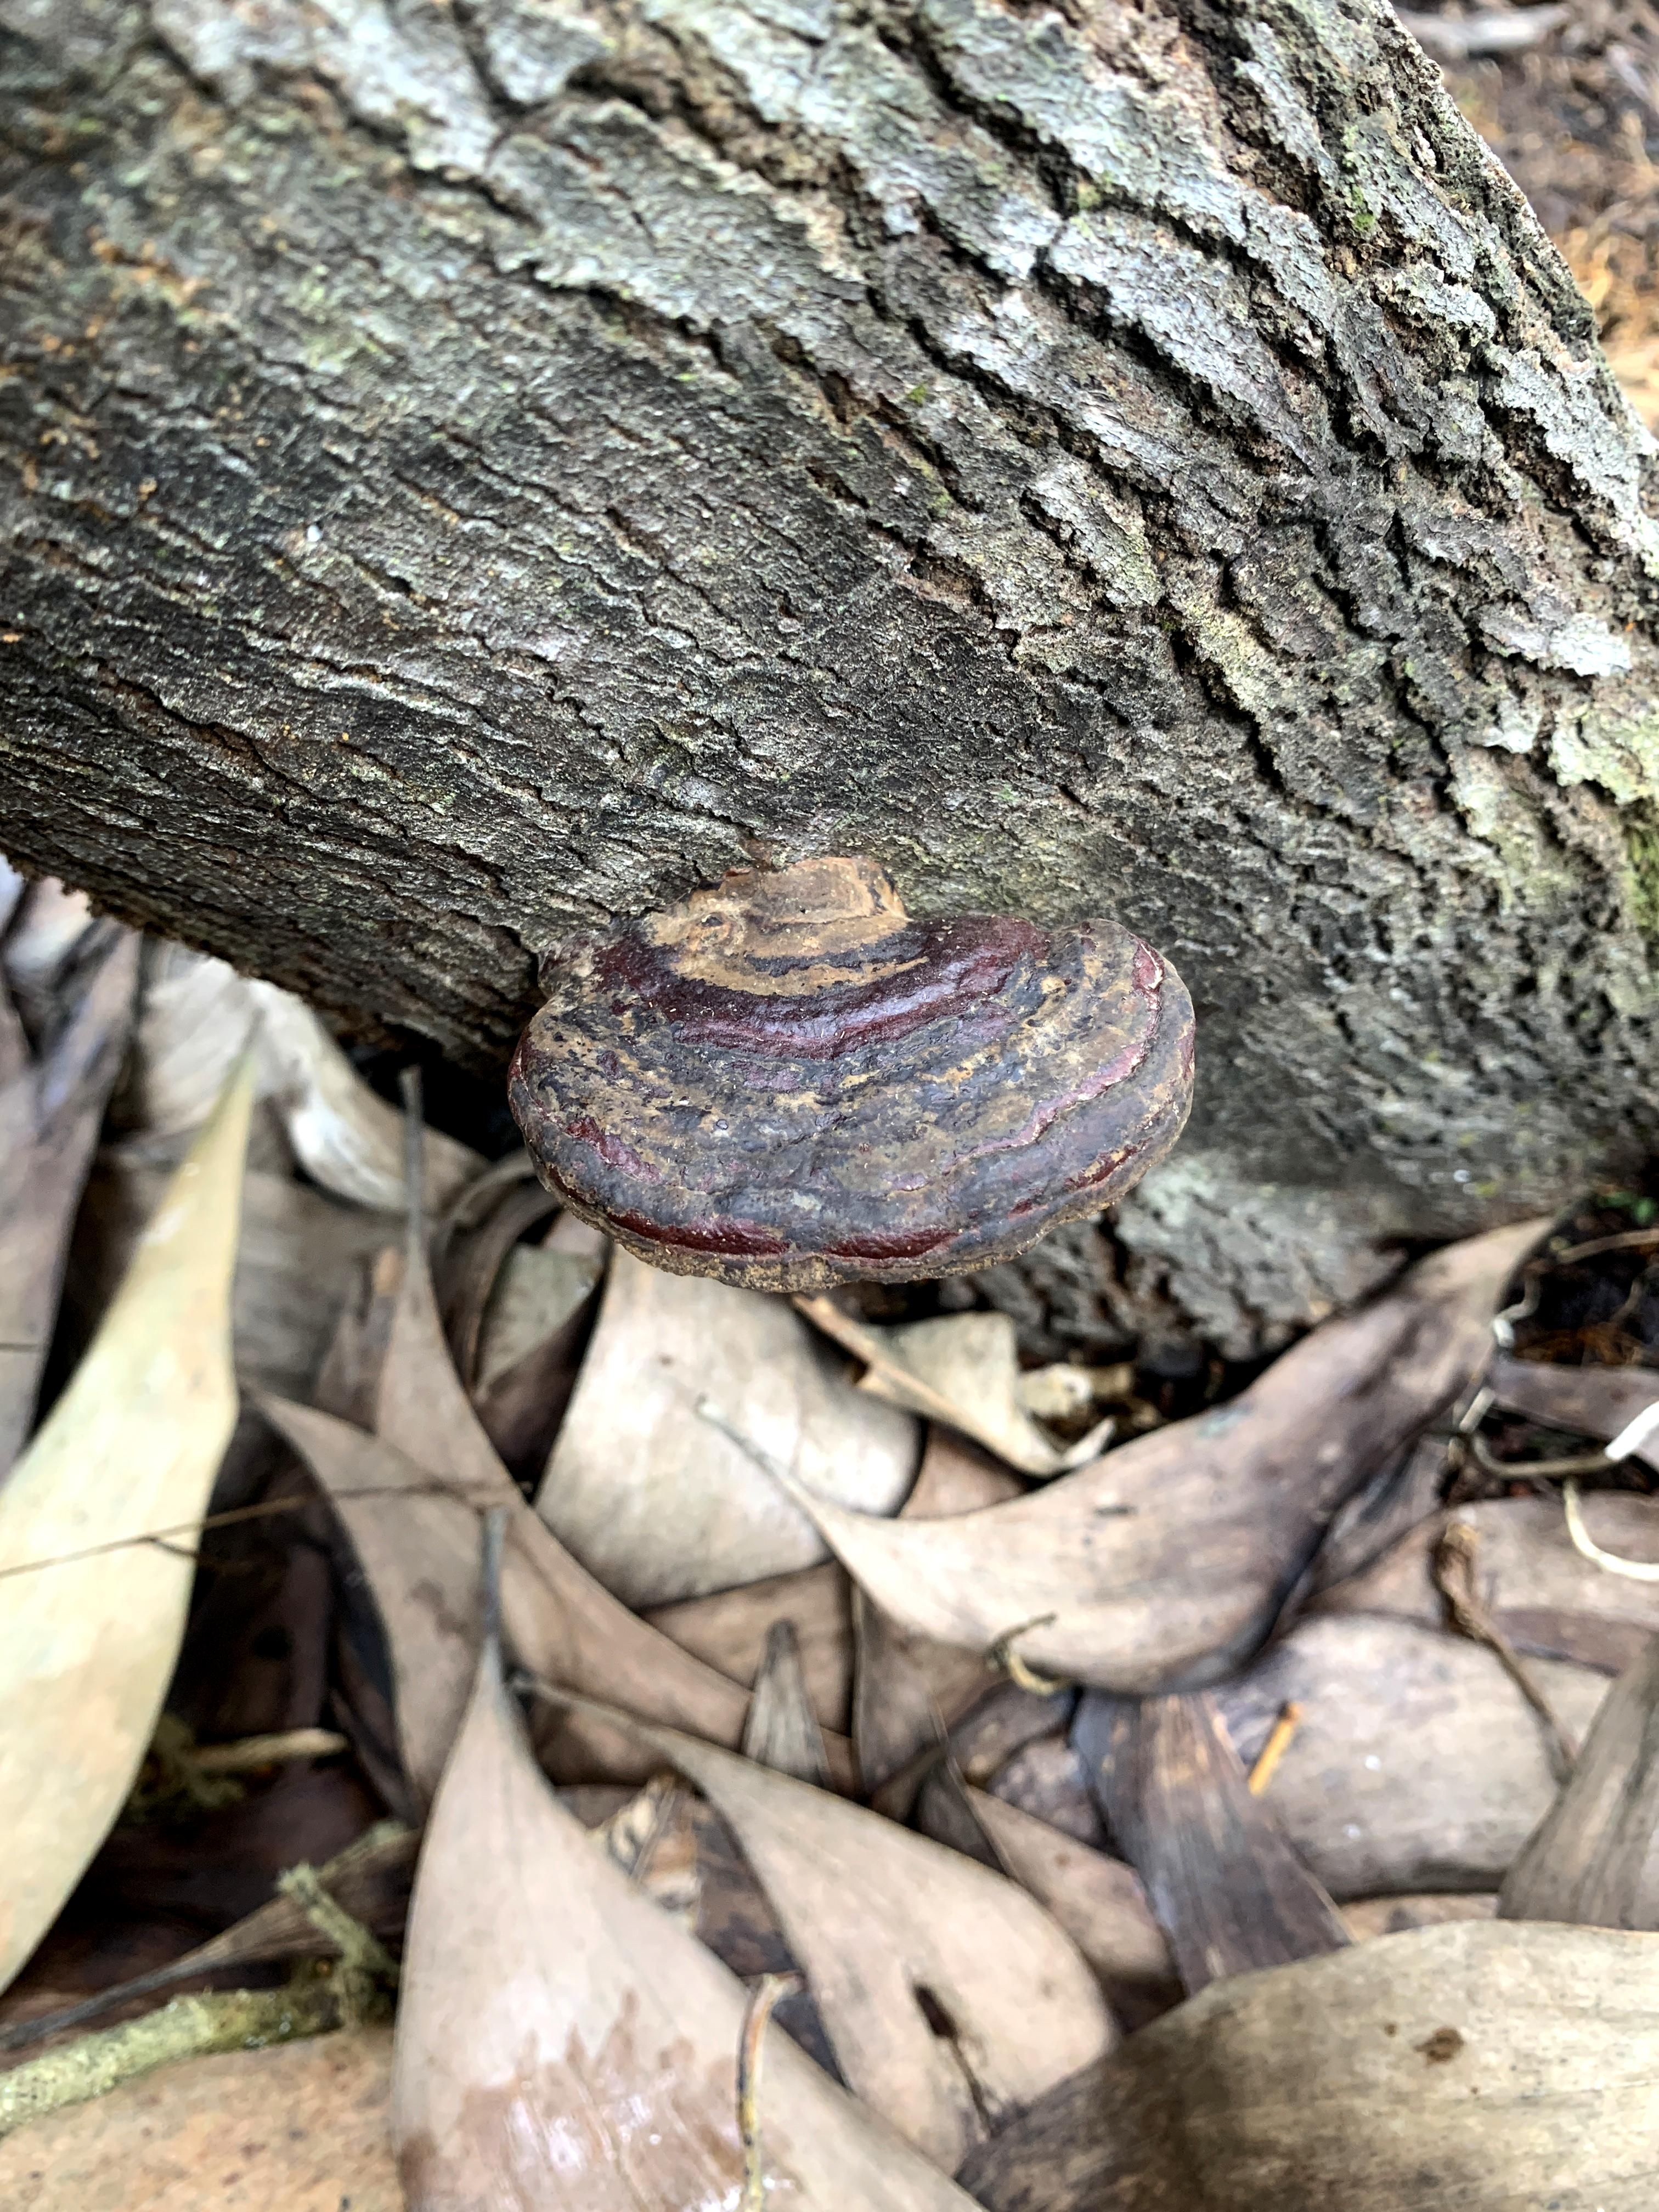Ganoderma - Fruit Body: (490, 770, 1220, 1346)
